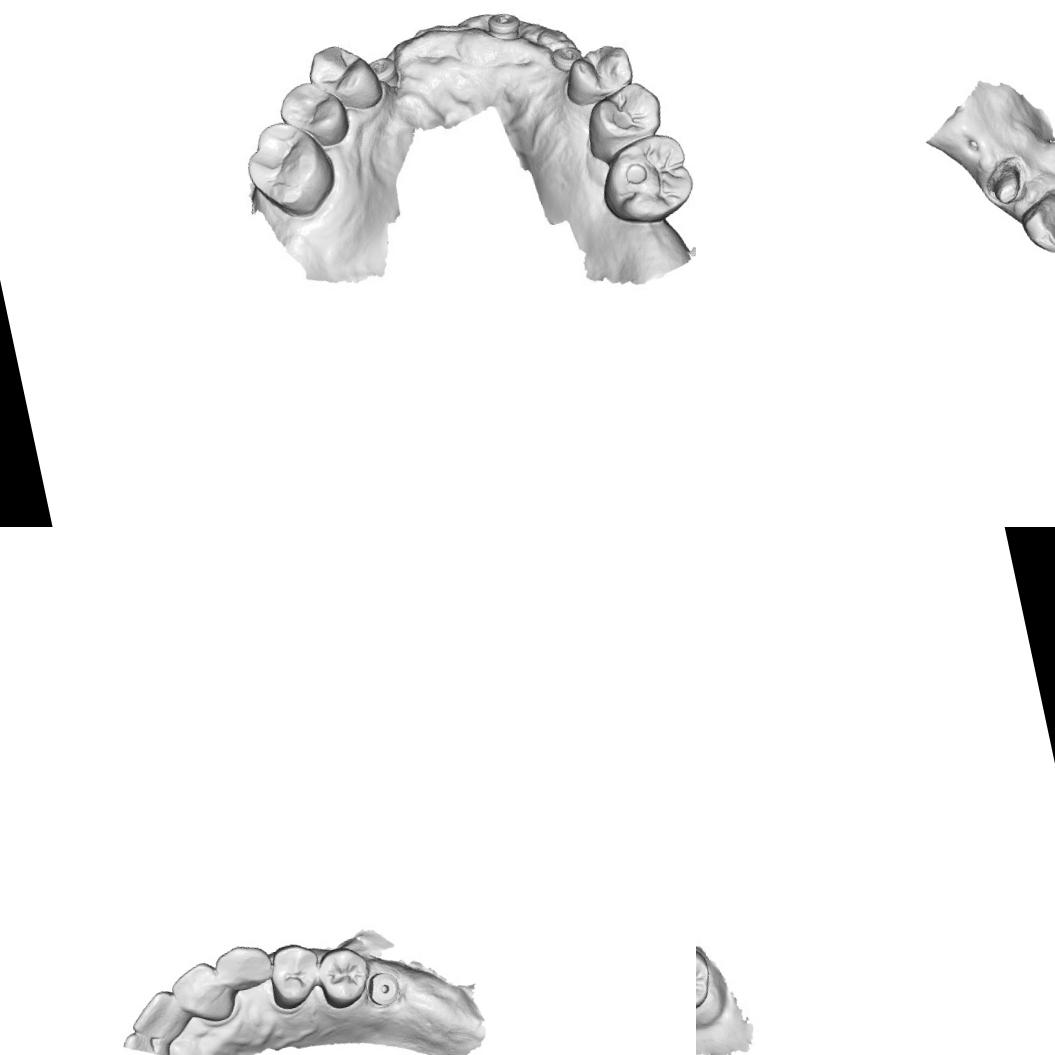canine: (209, 938, 278, 997), (1015, 188, 1055, 259)
crown: (980, 153, 1032, 208)
implant: (482, 2, 528, 50), (545, 31, 591, 78), (368, 46, 406, 92), (363, 968, 404, 1009)
incisor: (165, 956, 236, 1032), (122, 984, 188, 1044), (121, 1024, 172, 1055)
molar: (233, 114, 347, 231), (587, 129, 696, 235), (696, 930, 718, 1020)
premolar: (570, 80, 673, 168), (300, 28, 389, 122), (276, 74, 356, 156), (558, 38, 644, 107), (262, 938, 328, 1014), (313, 942, 376, 1013)
